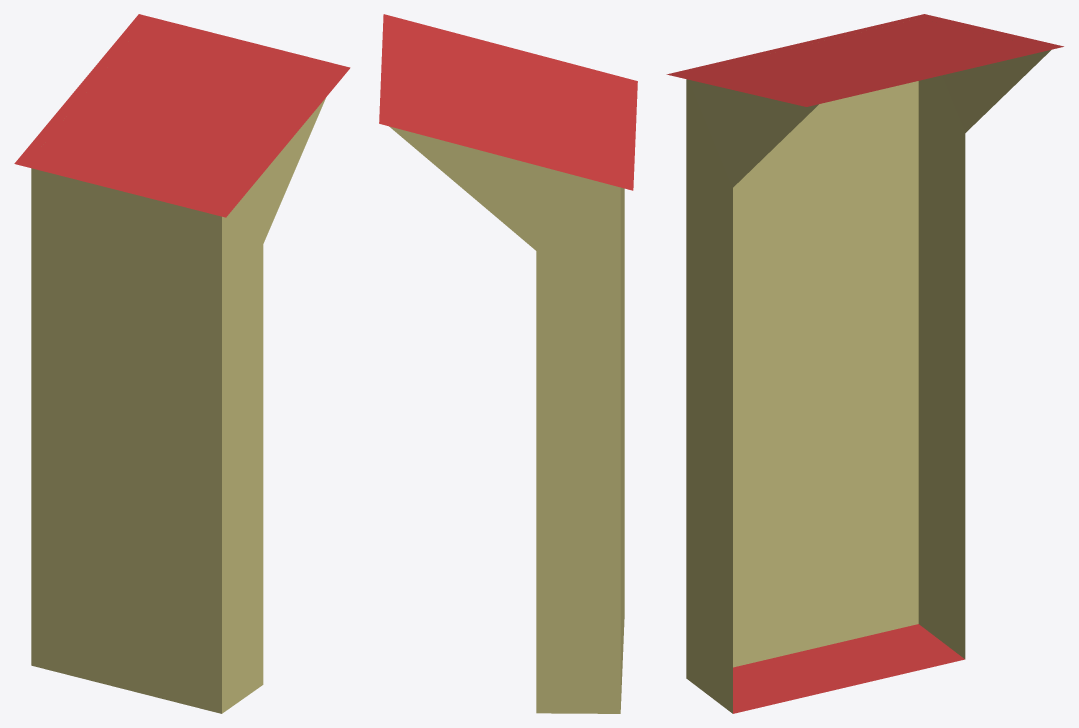
The picture shows the model from 3 angles, left to right: view 1: azimuth 30°, elevation 25°; view 2: azimuth 150°, elevation 25°; view 3: azimuth 270°, elevation 25°; orthographic projection. The views are drawn at different scales.
Size of the model in its own units: 6.7 by 6.74 by 12.61.
